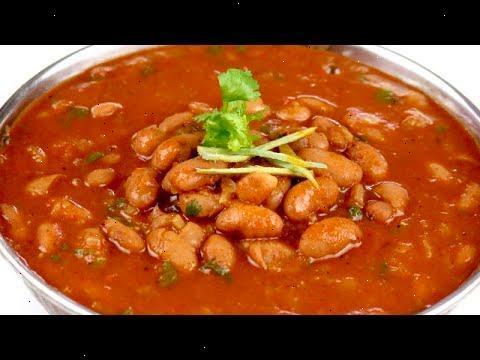rajma: (26, 54, 480, 316)
